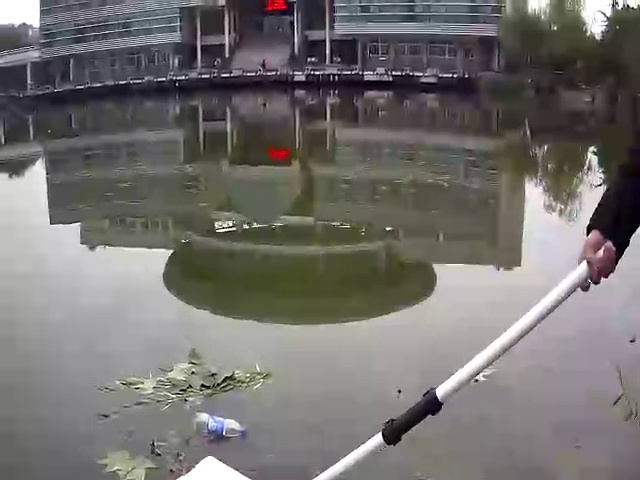bottle: (185, 406, 253, 443)
leaf: (109, 349, 270, 404), (94, 444, 163, 478)
